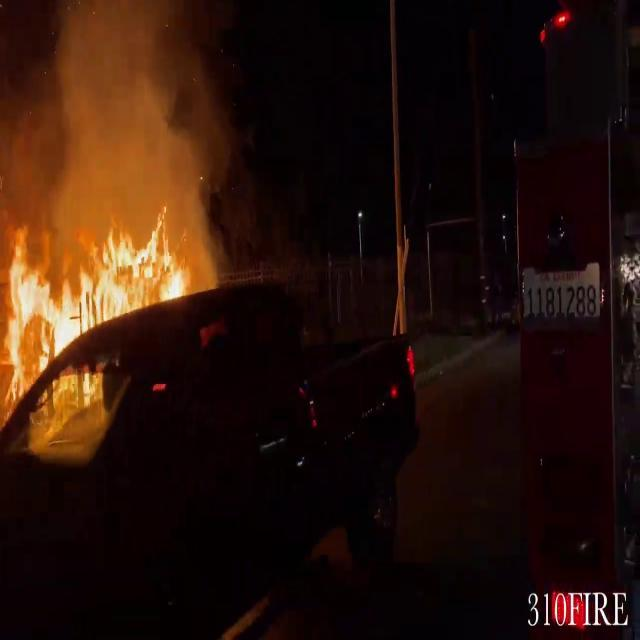Fire: (0, 184, 200, 406)
Smoke: (0, 1, 236, 210)
